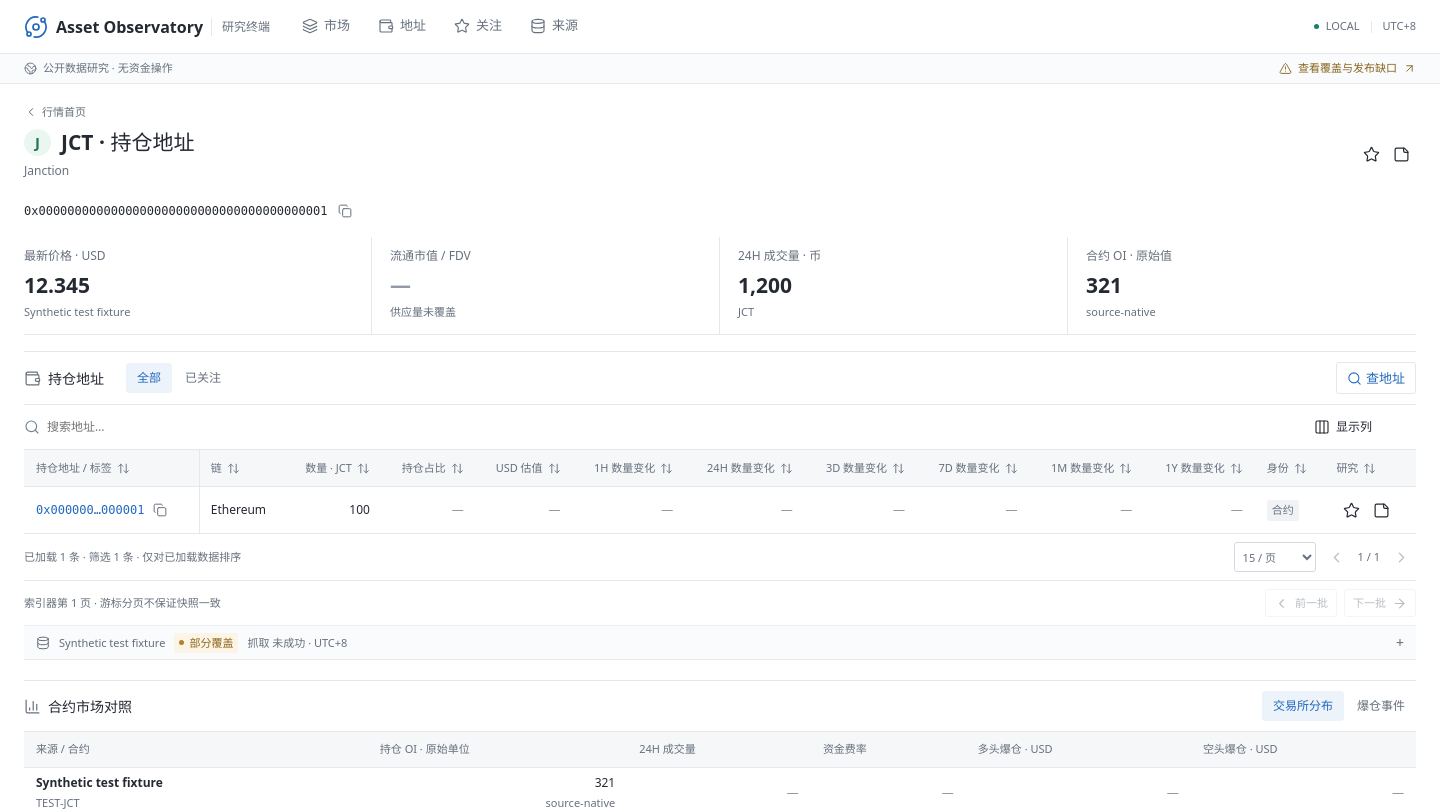
UI03-06 asset summary reuses known data and custom watches retain out-of-page addresses
Expected: the text "Janction" is shown, [24, 162, 69, 179]
Expected: the element with test id "asset-summary-metrics" shows "12.345", [24, 271, 90, 299]
Click the button "已关注". click: (203, 378)
box: [174, 363, 232, 393]
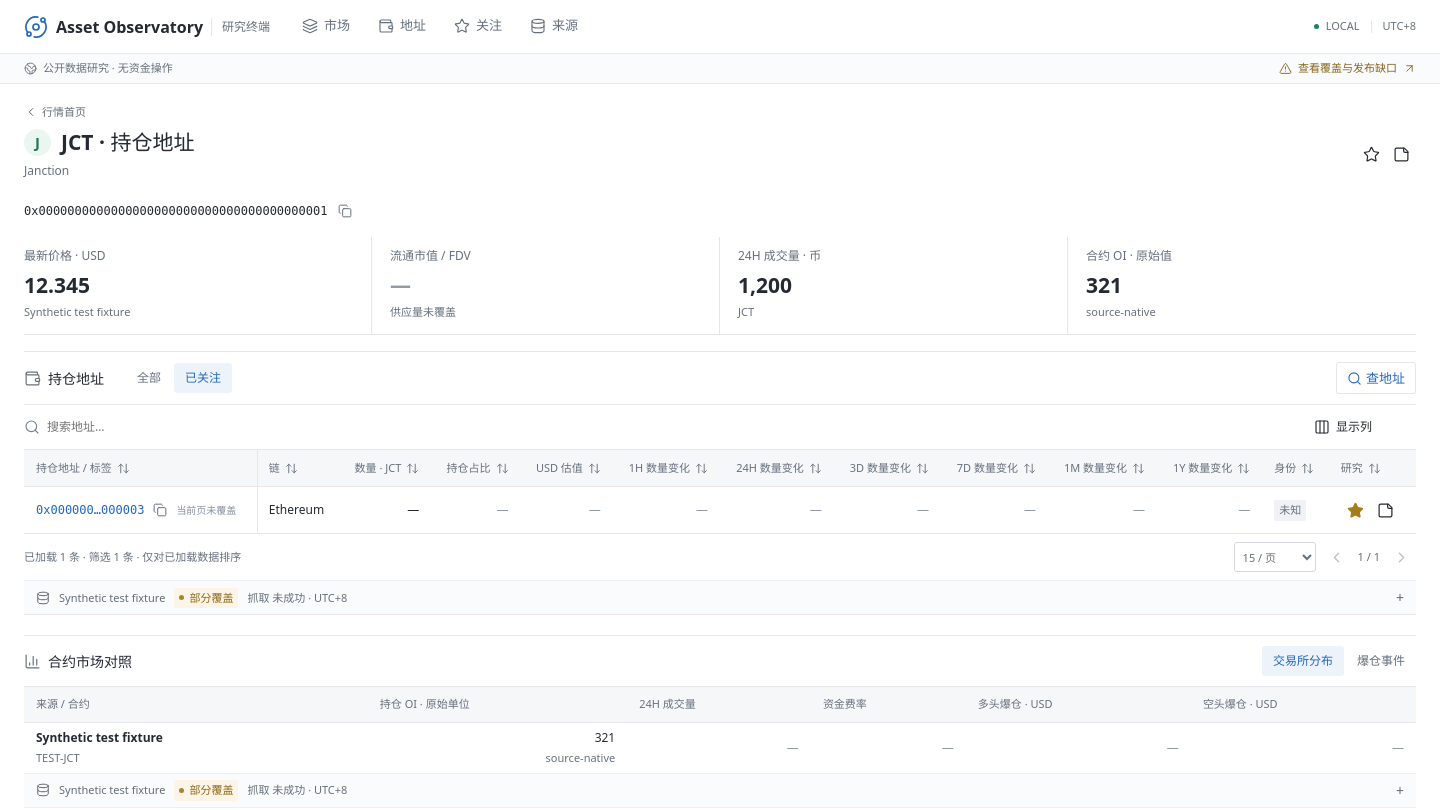
Now the text "100" is gone
Now the text "当前页未覆盖" is shown, box [176, 503, 236, 518]
